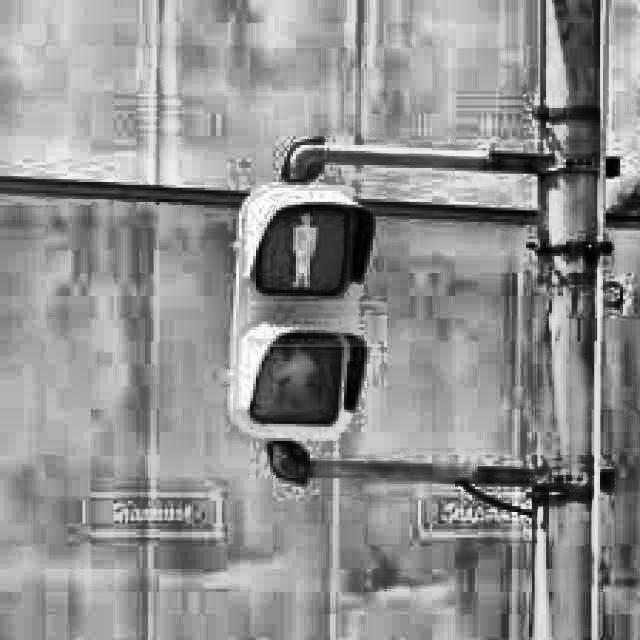semaforo pedestre: (156, 105, 458, 553)
